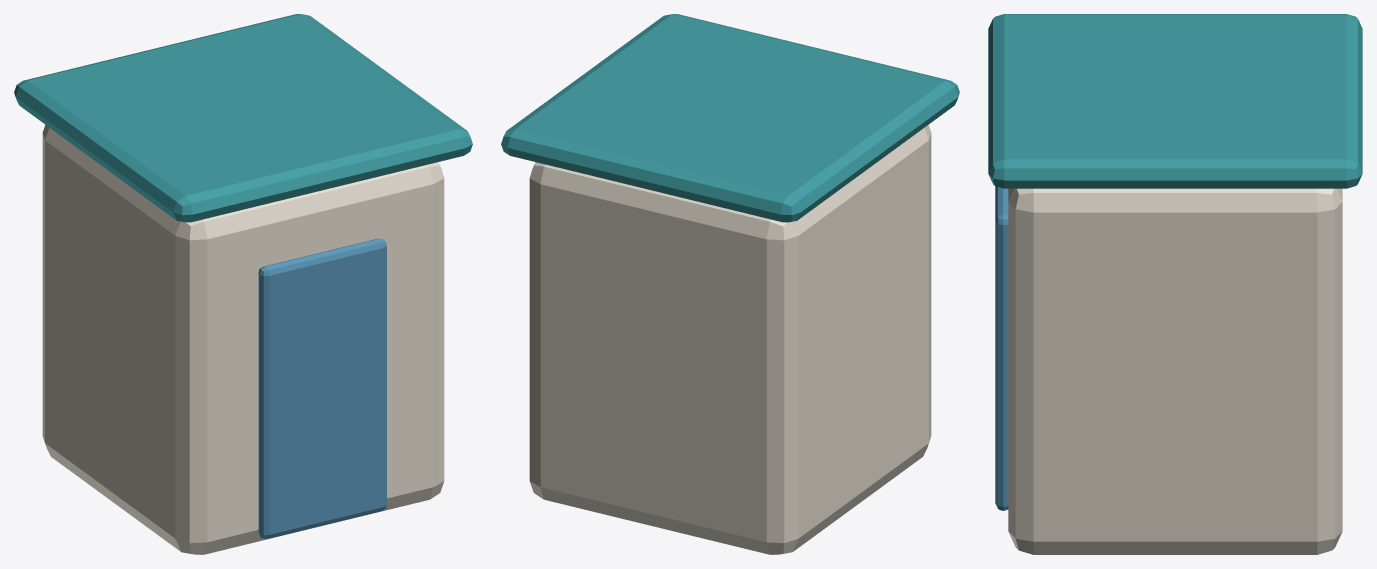
Rendered from changing_cabin_lod1_v1.glb.
3 renders of one model, left to right at view 1: azimuth 30°, elevation 25°; view 2: azimuth 150°, elevation 25°; view 3: azimuth 270°, elevation 25°, orthographic. The views are drawn at different scales.
Parts seen in each view (by area): view 1: LOD1_CHANGING_CABIN_Body, LOD1_CHANGING_CABIN_Roof, LOD1_CHANGING_CABIN_Door; view 2: LOD1_CHANGING_CABIN_Body, LOD1_CHANGING_CABIN_Roof; view 3: LOD1_CHANGING_CABIN_Body, LOD1_CHANGING_CABIN_Roof, LOD1_CHANGING_CABIN_Door.
Part boxes in pixels (<box>): LOD1_CHANGING_CABIN_Body: <box>42,125,444,554</box>; LOD1_CHANGING_CABIN_Roof: <box>14,14,472,222</box>; LOD1_CHANGING_CABIN_Door: <box>258,238,386,538</box>; LOD1_CHANGING_CABIN_Body: <box>529,125,931,554</box>; LOD1_CHANGING_CABIN_Roof: <box>501,14,959,222</box>; LOD1_CHANGING_CABIN_Body: <box>1008,188,1342,554</box>; LOD1_CHANGING_CABIN_Roof: <box>988,14,1362,188</box>; LOD1_CHANGING_CABIN_Door: <box>995,186,1008,510</box>.
Size of what is drawn, in the model's own units: 2.35 by 2.82 by 2.35.
